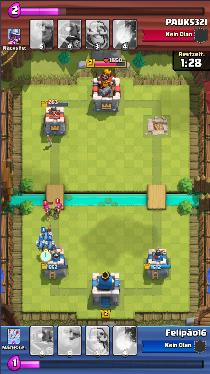ally_minion: (44, 240, 56, 251), (40, 231, 52, 240), (37, 239, 45, 250)
enemy_archer: (41, 204, 52, 216), (53, 203, 63, 216)
